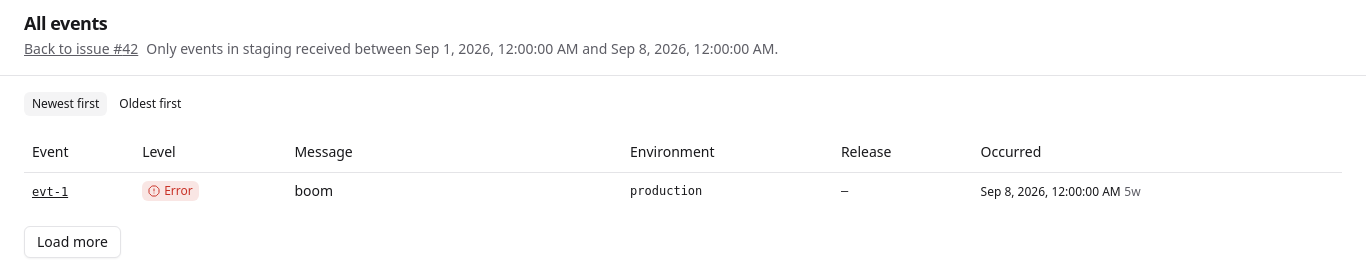
Test: IssueEventsPage › requests the scope the pager handed over, on the first page and on 'Load more'
Check: the link "evt-1" is shown, box [32,185,68,199]
Click the button "Load more": (72, 242) [24,226,121,258]
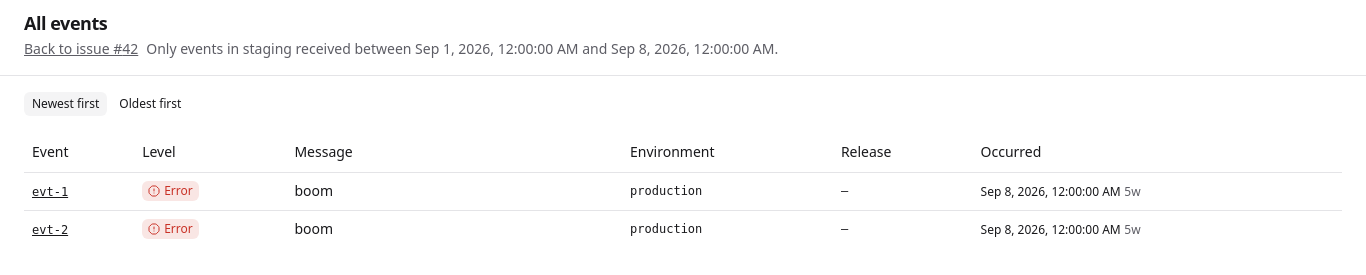
Check: the link "evt-2" is shown, box [32,223,68,237]
